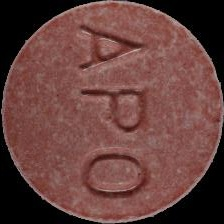54868-5100: (0, 0, 224, 224)
